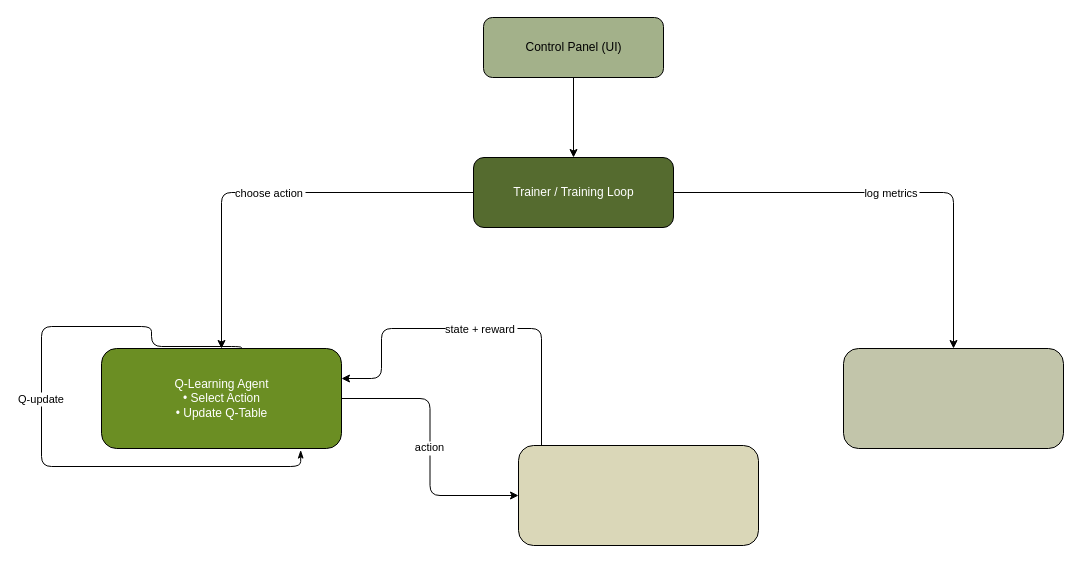
Some shapes in this 1081 by 563 pixel diagram are drawn without their labels. The centre of each missing label's shape, as x and y in pixels:
Logger • Rewards • Steps • Success Rate: the point at 953,398
Maze Environment • Grid World • Reward Function • Terminal State: the point at 638,495
